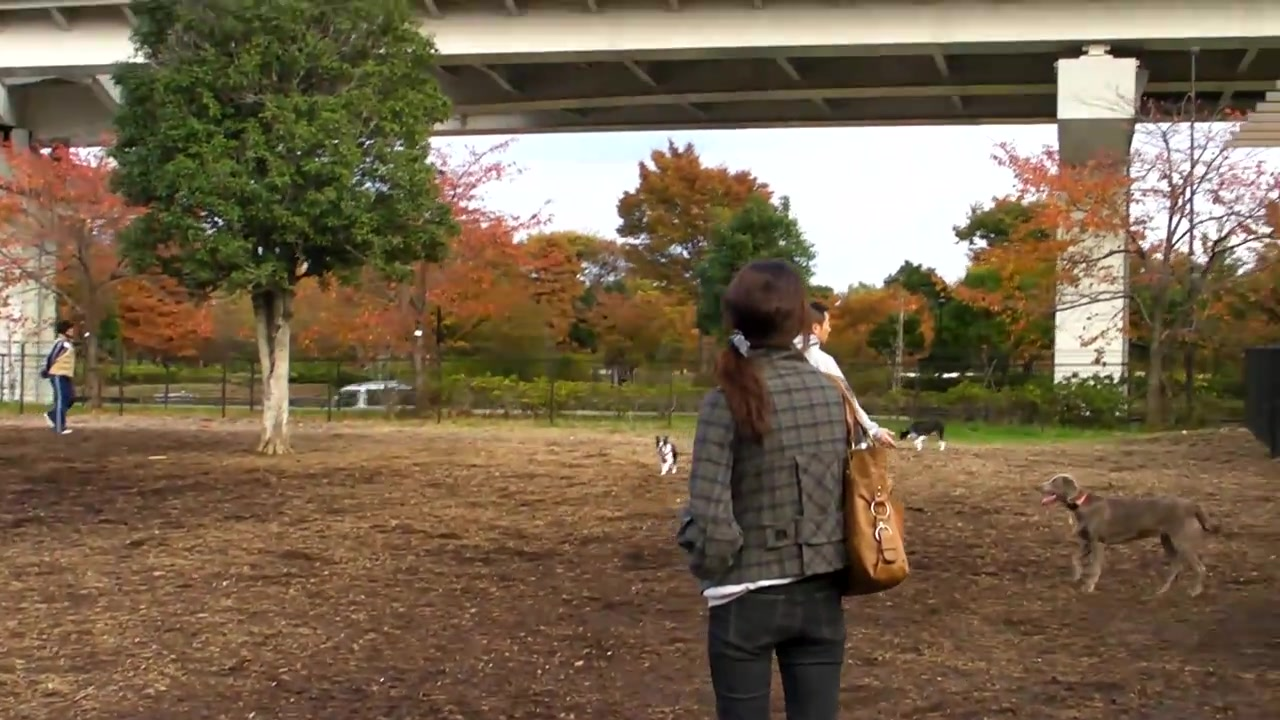dog: (1030, 474, 1215, 600)
